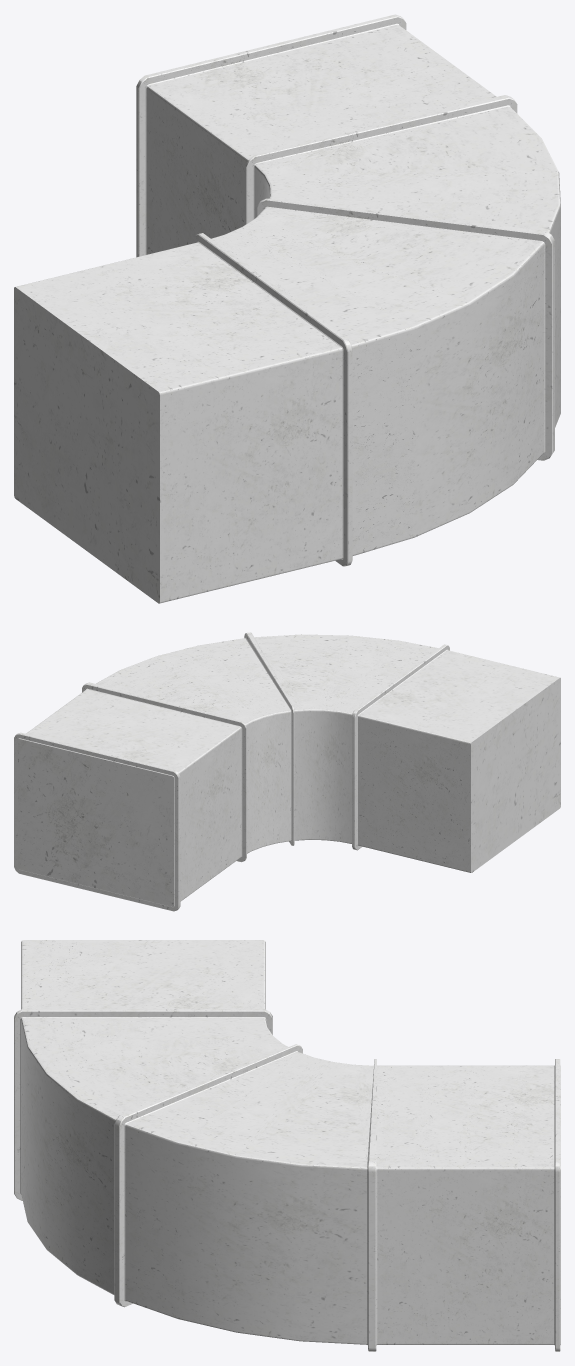
The model's file is SM_AC_Unit_Bend_45.glb.
The picture shows the model from 3 angles, top to bottom: view 1: azimuth 30°, elevation 25°; view 2: azimuth 150°, elevation 25°; view 3: azimuth 270°, elevation 25°; orthographic projection. The views are drawn at different scales.
Visible parts, largest first — view 1: SM_AC_Unit_Bend_45; view 2: SM_AC_Unit_Bend_45; view 3: SM_AC_Unit_Bend_45.
Boxes of the visible parts, x1,y1,x2,y2 form: SM_AC_Unit_Bend_45: (14, 14, 560, 603); SM_AC_Unit_Bend_45: (14, 632, 560, 911); SM_AC_Unit_Bend_45: (14, 940, 560, 1351).
Bounding box in the file's own units: 1.12 × 0.4289 × 1.12.
Materials: 1 (1 with a texture image).
